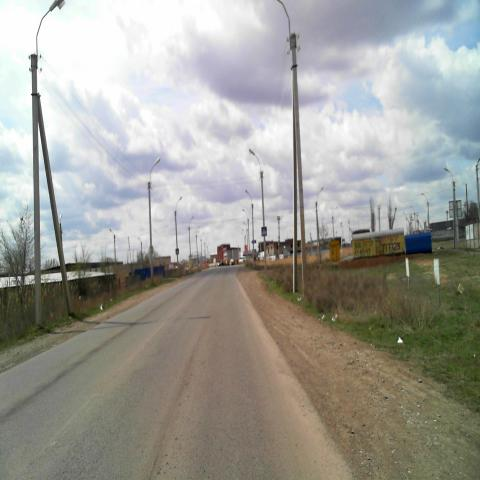5_19_1: (261, 227, 267, 236), (175, 248, 179, 255)
